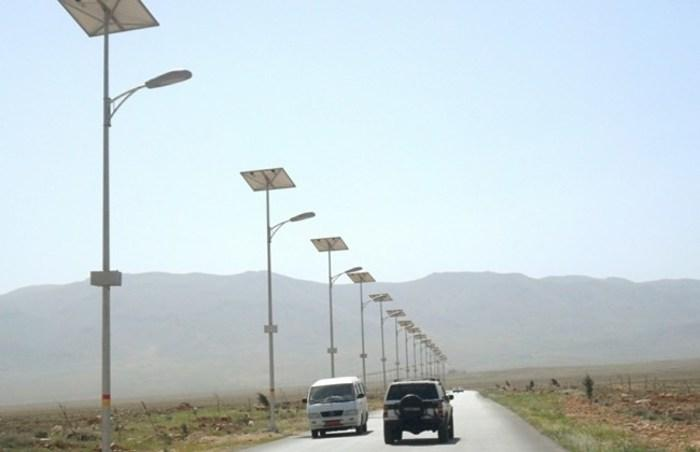baseball bat: (105, 68, 191, 115)
baseball glove: (104, 68, 190, 122)
bird: (268, 211, 314, 235)
bus: (316, 374, 406, 439), (379, 375, 451, 442), (305, 376, 367, 437)
car: (316, 374, 406, 439), (381, 376, 452, 444), (307, 376, 366, 436), (431, 379, 452, 429), (437, 388, 454, 443), (352, 378, 367, 433), (435, 382, 458, 413), (442, 389, 456, 425), (439, 385, 453, 418), (445, 386, 463, 403), (444, 388, 455, 410)
frisbee: (105, 68, 192, 112), (137, 69, 192, 89)
hot dog: (105, 68, 191, 115)
kite: (239, 166, 308, 241), (267, 211, 315, 236), (278, 211, 316, 225)
person: (381, 379, 449, 445), (305, 377, 360, 438), (437, 390, 453, 442), (440, 393, 452, 429)
remote: (105, 68, 192, 112), (137, 67, 190, 88)
stop sign: (54, 0, 157, 38)
toothbrush: (105, 68, 191, 115)
traffic light: (306, 376, 366, 436)
truck: (316, 374, 406, 439), (381, 378, 452, 444), (306, 376, 366, 436)
umbrella: (11, 5, 188, 382), (23, 3, 181, 207), (50, 2, 168, 113), (87, 45, 185, 122), (239, 166, 308, 239), (54, 0, 157, 38), (104, 67, 191, 110), (267, 210, 313, 237)
